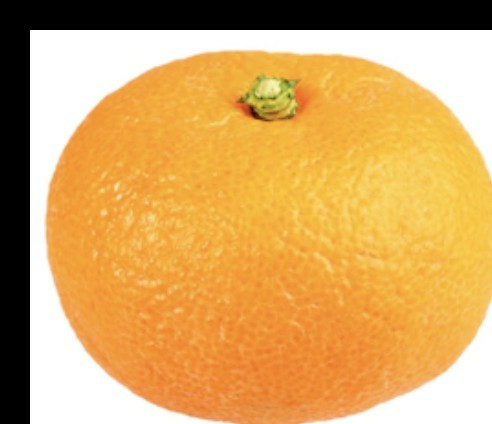fresh_orange: (46, 50, 492, 422)
